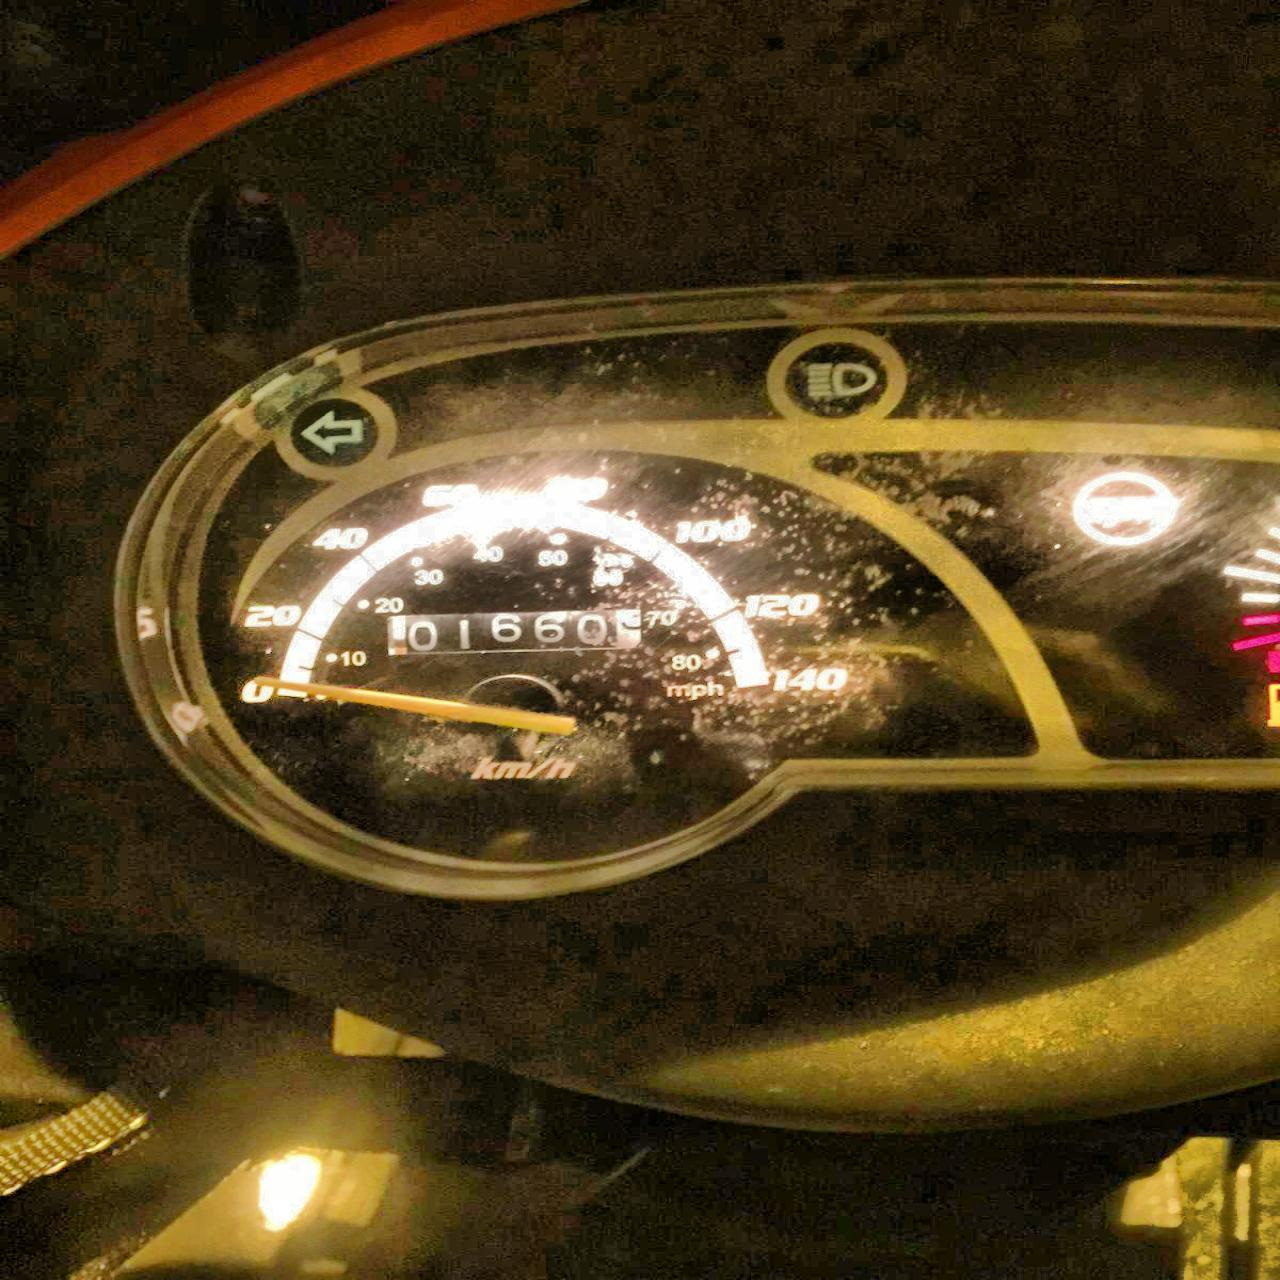0: (574, 611, 610, 647), (406, 617, 440, 649)
1: (452, 615, 476, 652)
3: (614, 608, 644, 636)
6: (531, 612, 570, 645), (489, 611, 523, 647)
odometer: (384, 607, 645, 655)
